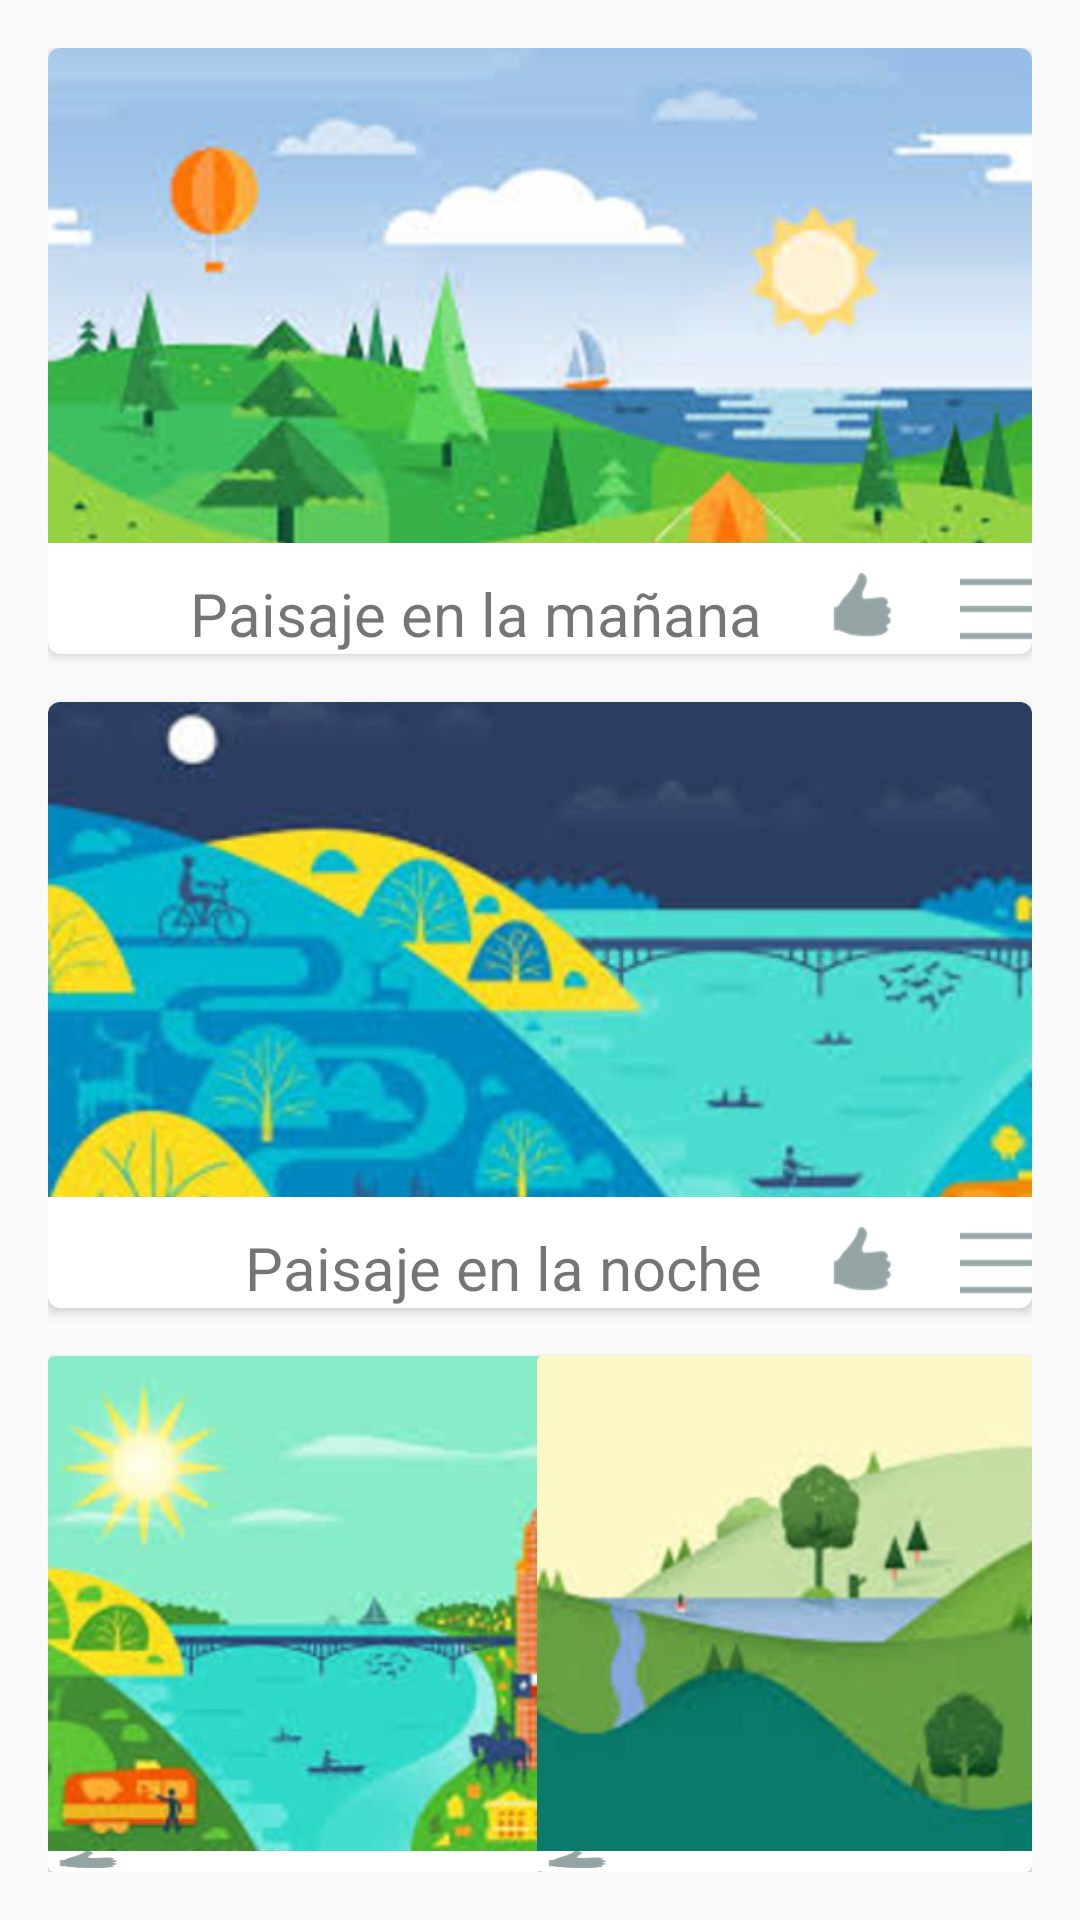

Icon bounding boxes for this 1080 x 1920 phone screenshot, format (x1, y1, x2, y2):
menu: (960, 579, 1032, 639), (960, 1233, 1032, 1293)
